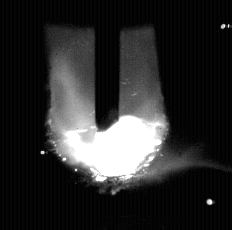arame: (96, 0, 121, 132)
poca: (51, 0, 163, 230)
